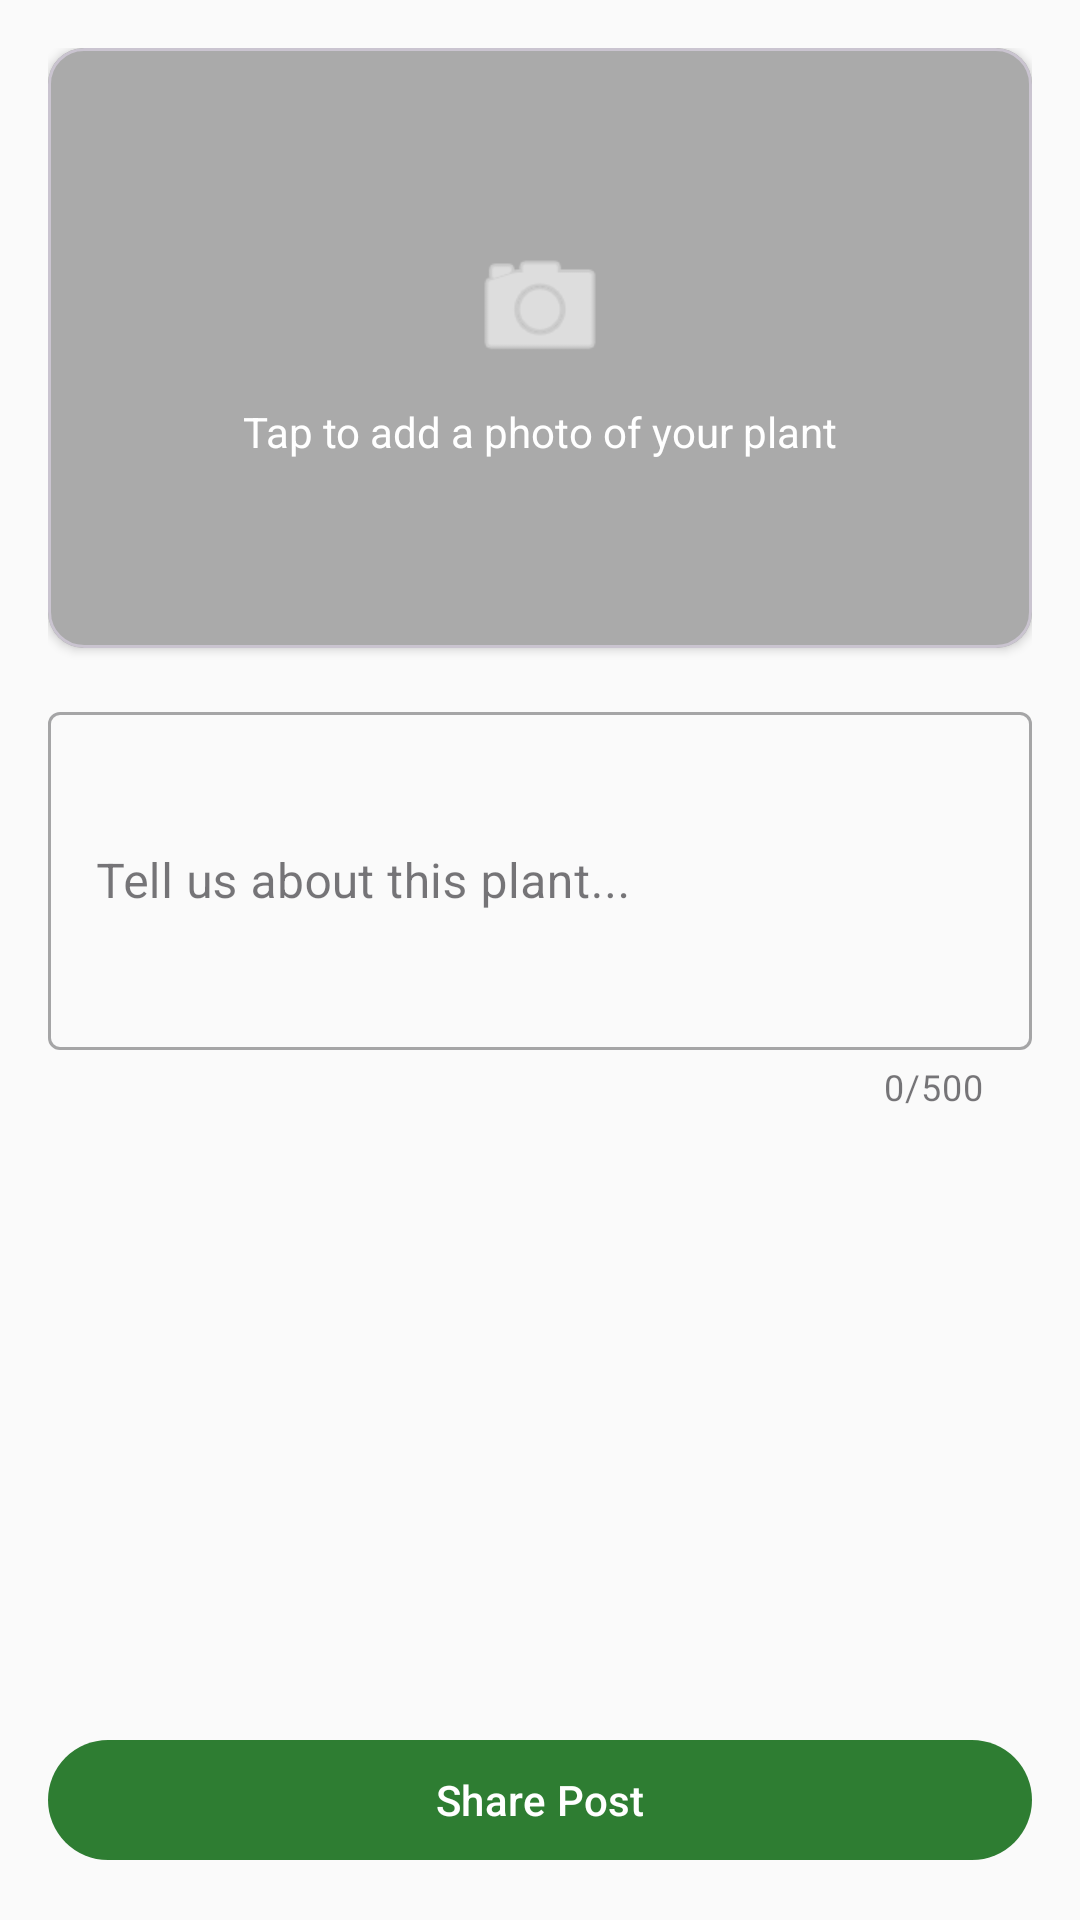

Where icons sit on this 1080w x 1920h app screen, as (x1,y1,x2,y2):
camera: (485,262,595,348)
